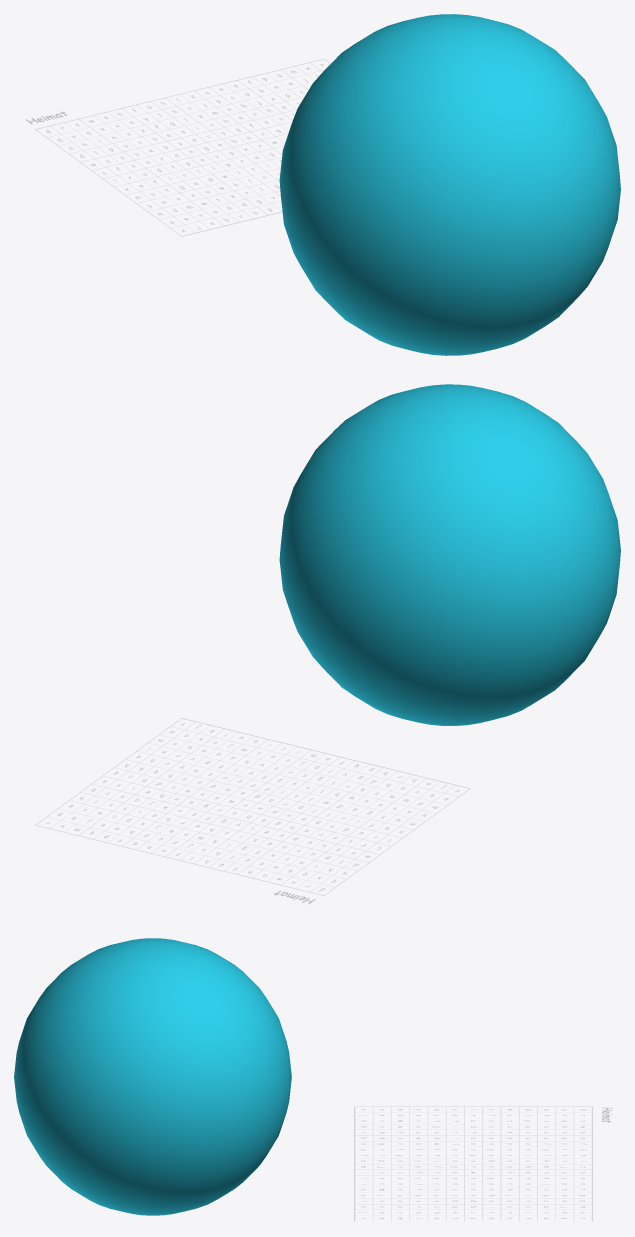
File: test-kugel1.glb
The picture shows the model from 3 angles, top to bottom: view 1: azimuth 30°, elevation 25°; view 2: azimuth 150°, elevation 25°; view 3: azimuth 270°, elevation 25°; orthographic projection. The views are drawn at different scales.
Visible parts, largest first — view 1: Sphere; view 2: Sphere; view 3: Sphere.
Part boxes in pixels (<box>): Sphere: <box>279,14,620,355</box>; Sphere: <box>279,384,620,725</box>; Sphere: <box>14,938,291,1215</box>.
Size of the model in its own units: 2 by 2 by 4.37.
Materials: 2 (1 with a texture image).
